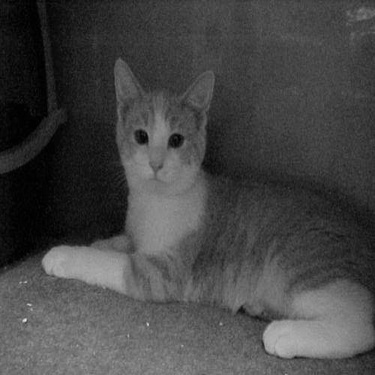cat: (42, 49, 371, 359)
